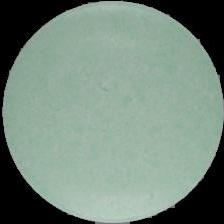67544-195: (0, 0, 224, 224)
